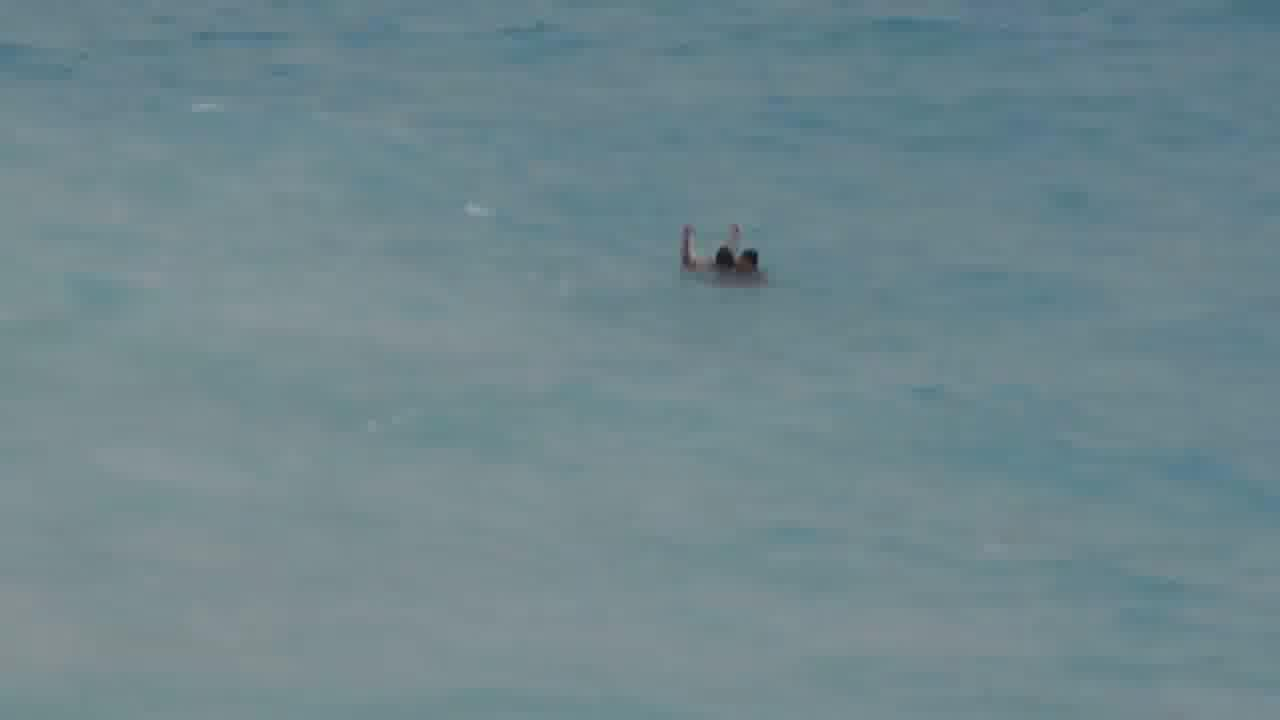swimmer: (700, 232, 770, 285)
